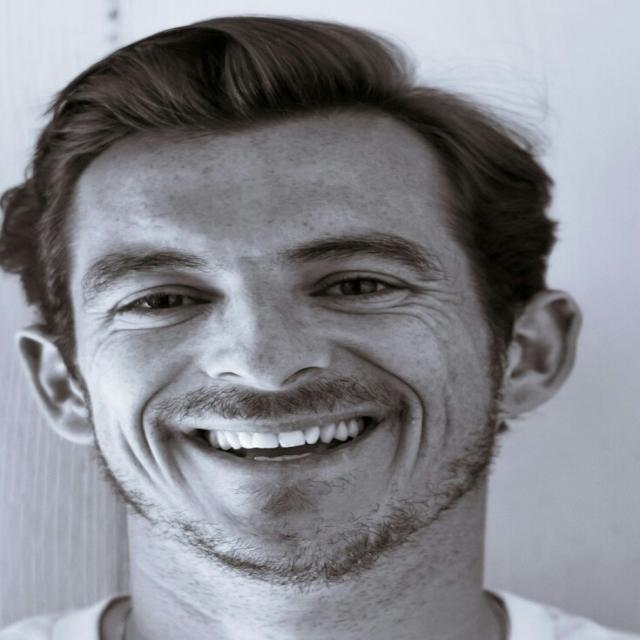front: (65, 229, 472, 526)
